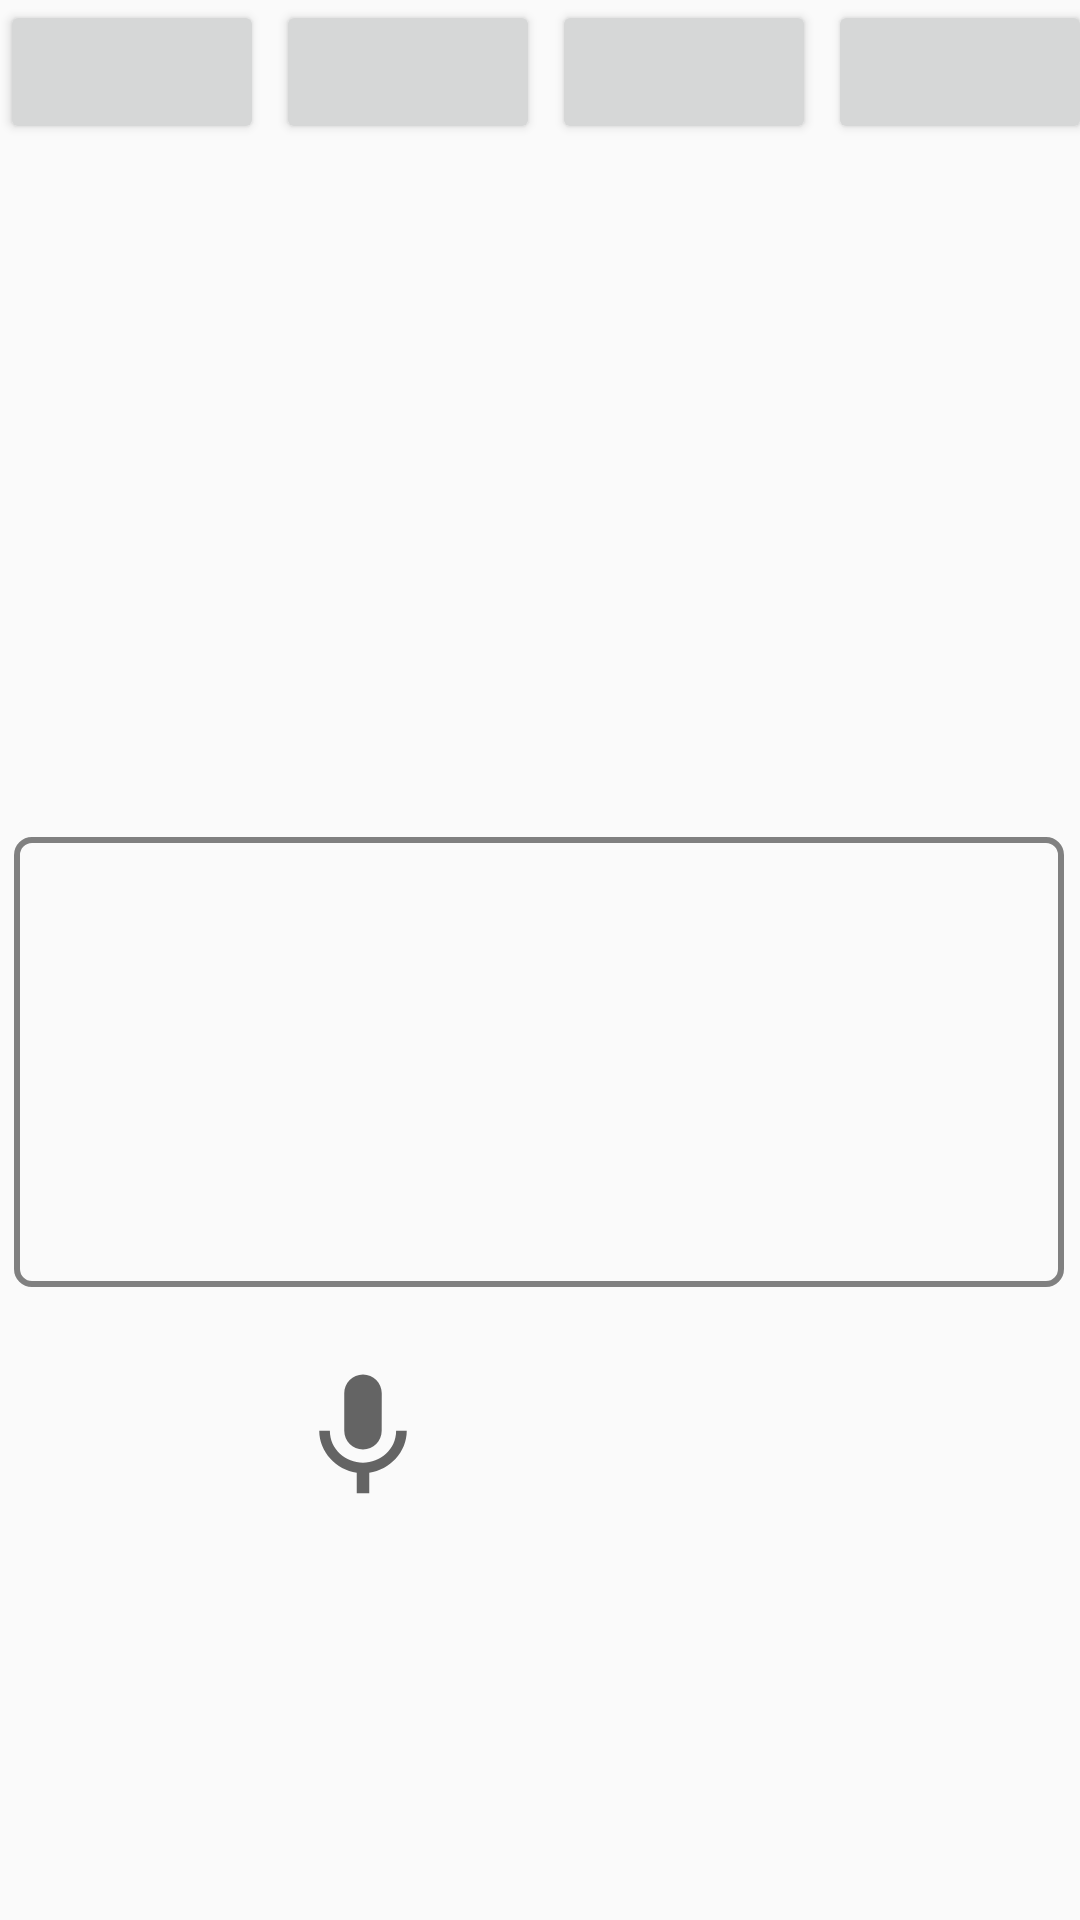

Named icons in this screenshot (1080 x 1920) and their bounding boxes, (x1, y1, x2, y2):
mic: (319, 1374, 407, 1494)
